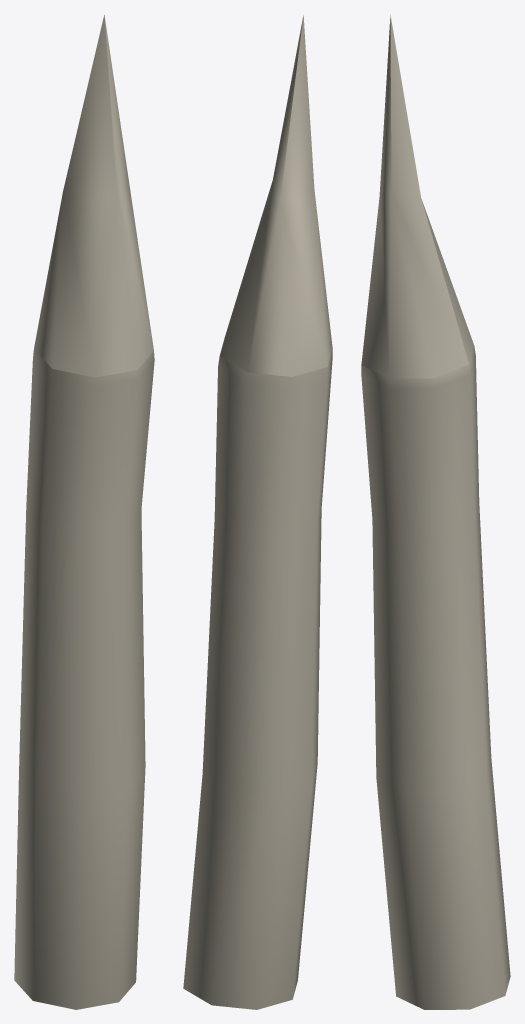
Rendered from Spike_02.fbx.
The picture shows the model from 3 angles, left to right: view 1: azimuth 90°, elevation 25°; view 2: azimuth 150°, elevation 25°; view 3: azimuth 330°, elevation 25°; orthographic projection. The views are drawn at different scales.
Visible parts, largest first — view 1: Spike_02; view 2: Spike_02; view 3: Spike_02.
Part boxes in pixels (bbox=[...]): Spike_02: bbox=[14, 15, 154, 1009]; Spike_02: bbox=[183, 15, 332, 1009]; Spike_02: bbox=[361, 14, 510, 1009].
Bounding box in the file's own units: 6.89 × 49.76 × 6.36.
